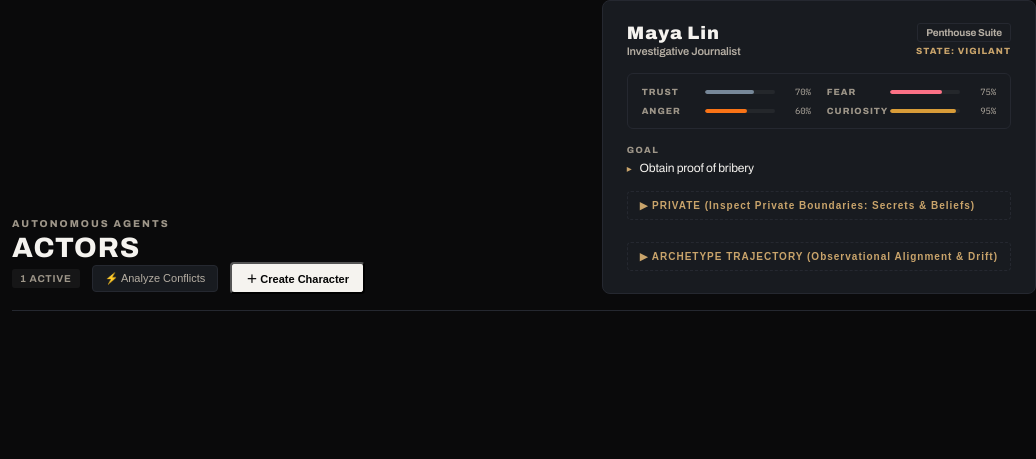
it: Frontend Workstation Components › renders CharacterCards with emotions and toggles private state isolation
Expected: the heading "Maya Lin" is shown, [627,23,720,43]
Expected: the text "Investigative Journalist" is shown, [627,45,740,57]
Toggle private boundaries
Click the button "▶ PRIVATE (Inspect Private Boundaries: Secrets & Beliefs)" at (819, 206), box [627,191,1011,220]
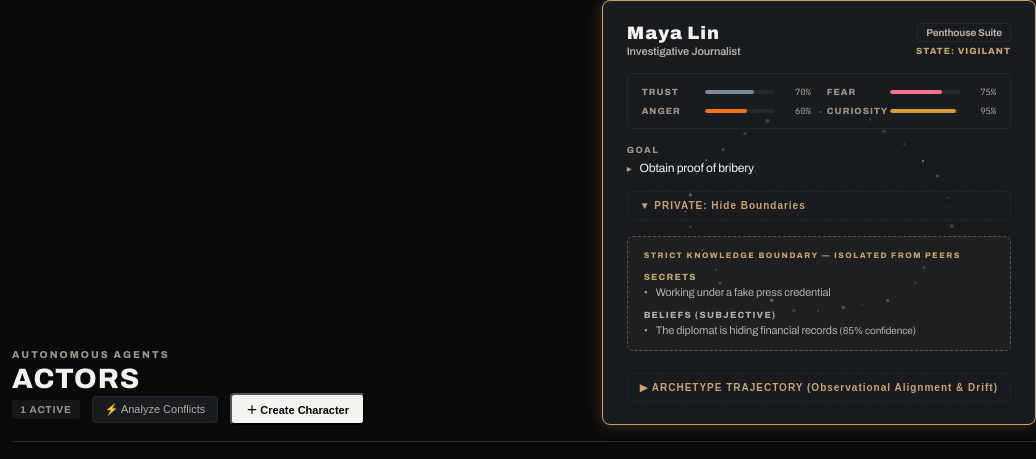
Result: the list item "Working under a fake press credential" is shown at [656,286,831,298]
Result: the list item "The diplomat is hiding financial records (85% confidence)" is shown at [656,324,916,336]
